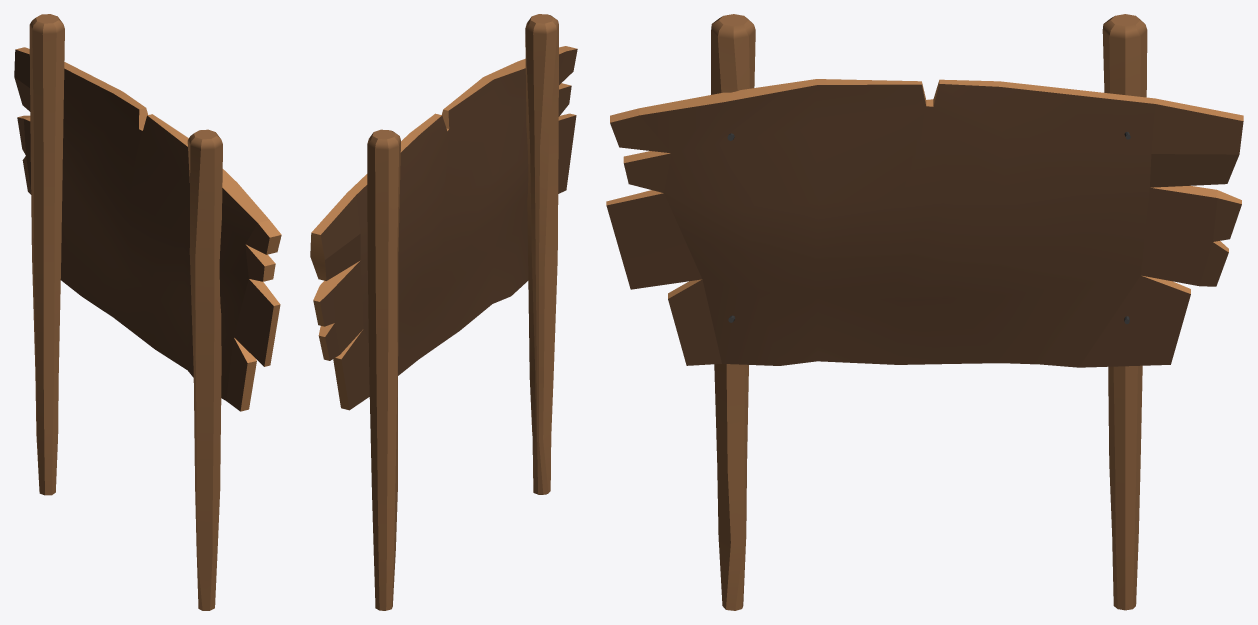
Rendered from th_sign_02.fbx.
3 renders of one model, left to right at view 1: azimuth 30°, elevation 25°; view 2: azimuth 150°, elevation 25°; view 3: azimuth 270°, elevation 25°, orthographic. The views are drawn at different scales.
Visible parts, largest first — view 1: th_sign_02; view 2: th_sign_02; view 3: th_sign_02.
Boxes of the visible parts, <box> form: th_sign_02: <box>14,14,281,610</box>; th_sign_02: <box>310,14,577,610</box>; th_sign_02: <box>606,14,1243,610</box>.
Size of the model in its own units: 11.01 by 97.75 by 96.06.
